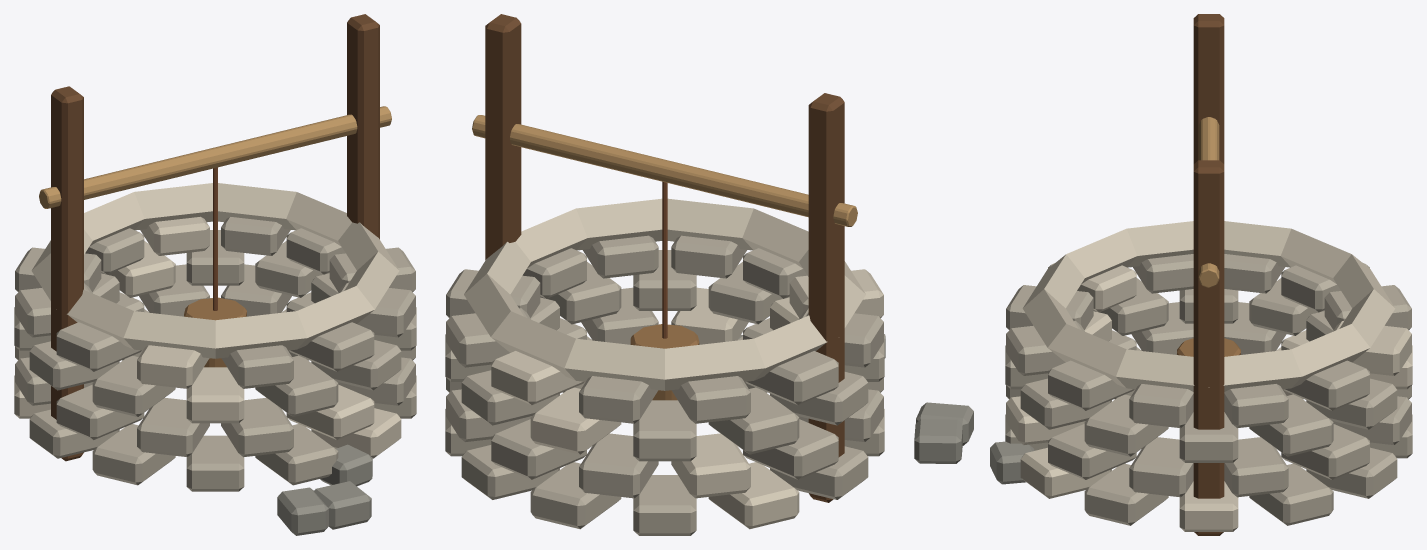
The model's file is runtime.glb.
3 views of the same model, side by side, from view 1: azimuth 30°, elevation 25°; view 2: azimuth 150°, elevation 25°; view 3: azimuth 270°, elevation 25° (orthographic). The views are drawn at different scales.
Visible parts, largest first — view 1: falkenwacht-stone-well-v07_nocol; view 2: falkenwacht-stone-well-v07_nocol; view 3: falkenwacht-stone-well-v07_nocol.
Boxes of the visible parts, <box> form: falkenwacht-stone-well-v07_nocol: <box>14,14,416,535</box>; falkenwacht-stone-well-v07_nocol: <box>445,14,885,535</box>; falkenwacht-stone-well-v07_nocol: <box>914,14,1412,535</box>.
Bounding box in the file's own units: 2.64 × 2.64 × 3.24.
